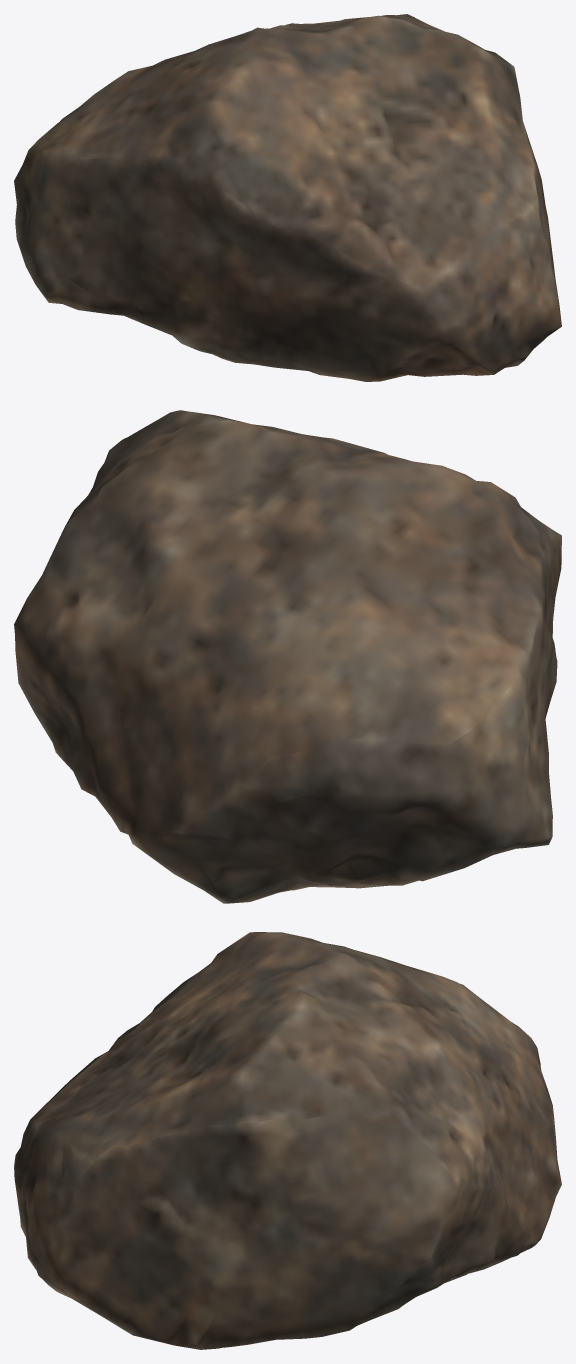
File: Stone_03.fbx
3 renders of one model, top to bottom at view 1: azimuth 30°, elevation 25°; view 2: azimuth 150°, elevation 25°; view 3: azimuth 270°, elevation 25°, orthographic. The views are drawn at different scales.
Visible parts, largest first — view 1: Stone_03; view 2: Stone_03; view 3: Stone_03.
Part boxes in pixels (x1,y1,x2,y2): Stone_03: [14, 14, 561, 381]; Stone_03: [14, 410, 561, 903]; Stone_03: [14, 932, 561, 1349].
Size of what is drawn, in the model's own units: 209 by 148 by 229.
